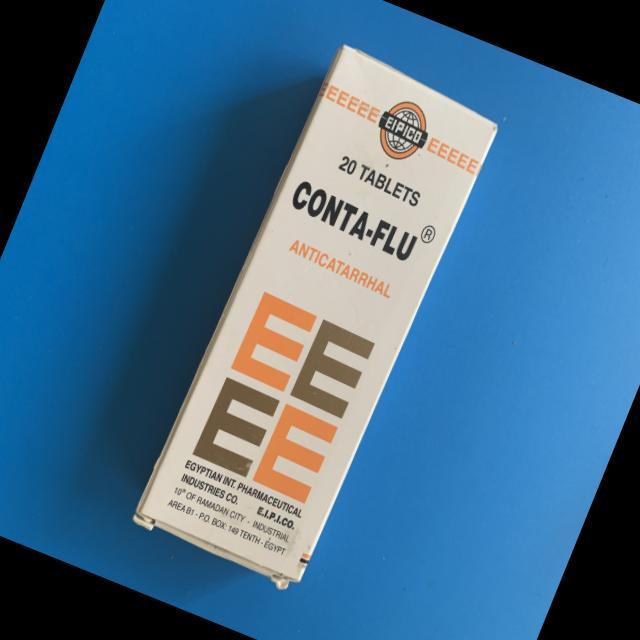Medicine Name: (279, 168, 426, 271)
